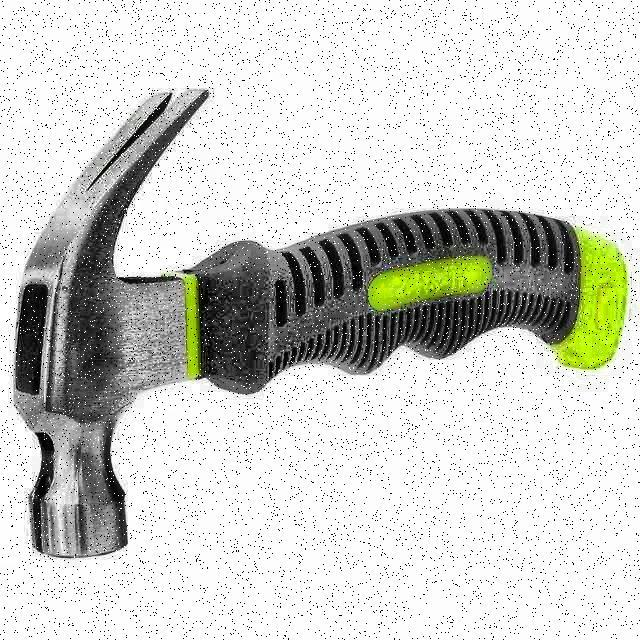hammer: (12, 86, 636, 558)
